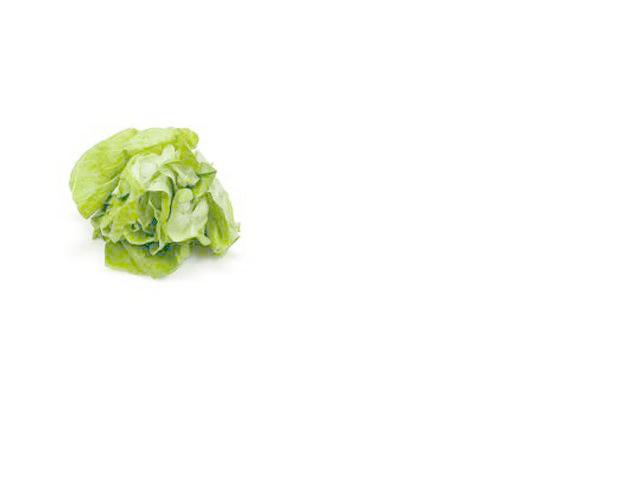lettuce: (121, 136, 265, 289)
